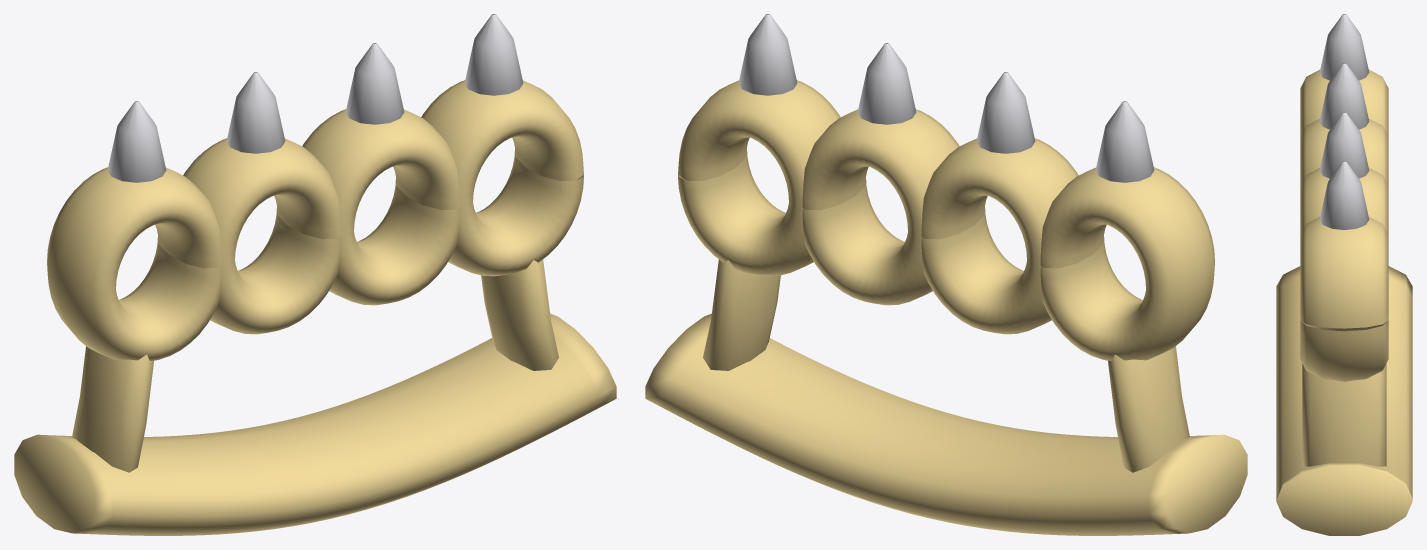
Rendered from brass_knuckles.glb.
The picture shows the model from 3 angles, left to right: view 1: azimuth 30°, elevation 25°; view 2: azimuth 150°, elevation 25°; view 3: azimuth 270°, elevation 25°; orthographic projection. The views are drawn at different scales.
Visible parts, largest first — view 1: Knuckles; view 2: Knuckles; view 3: Knuckles.
Boxes of the visible parts, <box> form: Knuckles: <box>14,14,616,535</box>; Knuckles: <box>645,14,1247,535</box>; Knuckles: <box>1276,14,1412,535</box>.
Size of the model in its own units: 0.0953 by 0.0753 by 0.0247.
